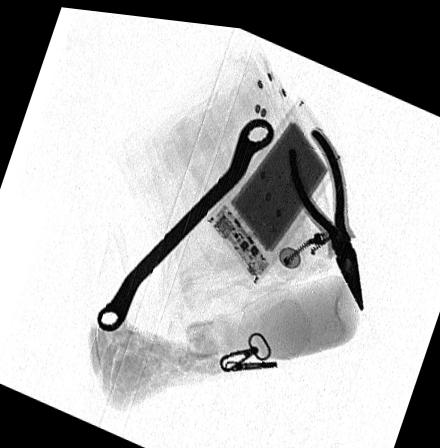Pliers: (289, 120, 364, 303)
Powerbank: (207, 90, 342, 279)
Wrench: (94, 109, 274, 331)
